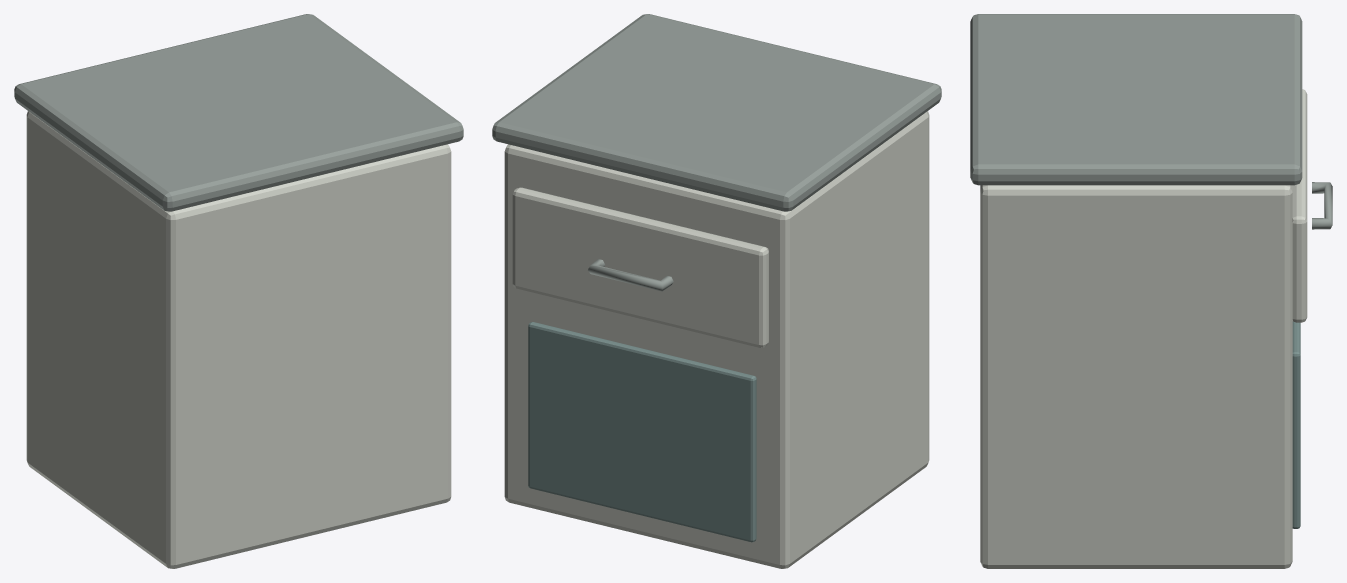
File: bedside_stand.glb
3 renders of one model, left to right at view 1: azimuth 30°, elevation 25°; view 2: azimuth 150°, elevation 25°; view 3: azimuth 270°, elevation 25°, orthographic. The views are drawn at different scales.
Parts seen in each view (by area): view 1: KitIvory, KitSteel; view 2: KitIvory, KitSteel, KitFabric; view 3: KitIvory, KitSteel, KitFabric.
Boxes of the visible parts, left/top/right/bottom form: KitIvory: left=26, top=111, right=451, bottom=568; KitSteel: left=14, top=14, right=463, bottom=211; KitIvory: left=504, top=111, right=929, bottom=568; KitSteel: left=492, top=14, right=941, bottom=291; KitFabric: left=528, top=322, right=756, bottom=542; KitIvory: left=980, top=89, right=1307, bottom=568; KitSteel: left=970, top=14, right=1332, bottom=229; KitFabric: left=1292, top=321, right=1300, bottom=528.
Bounding box in the file's own units: 0.57 × 0.6925 × 0.5564.
